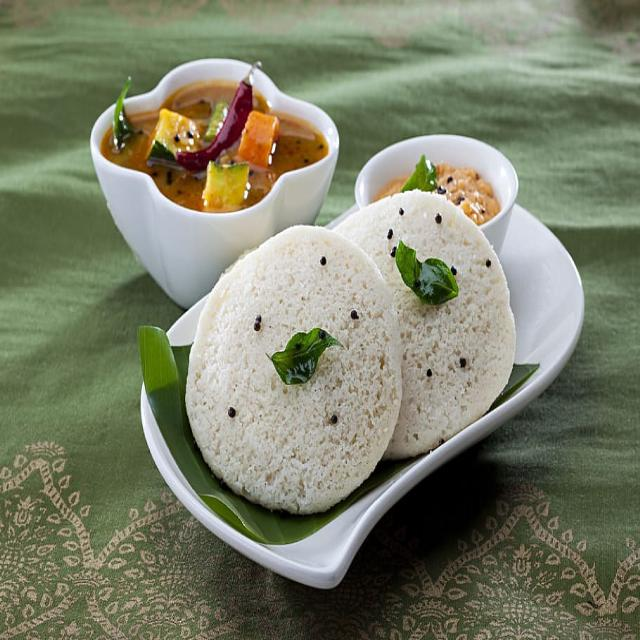IDLI: (186, 226, 400, 512), (335, 190, 516, 459)
